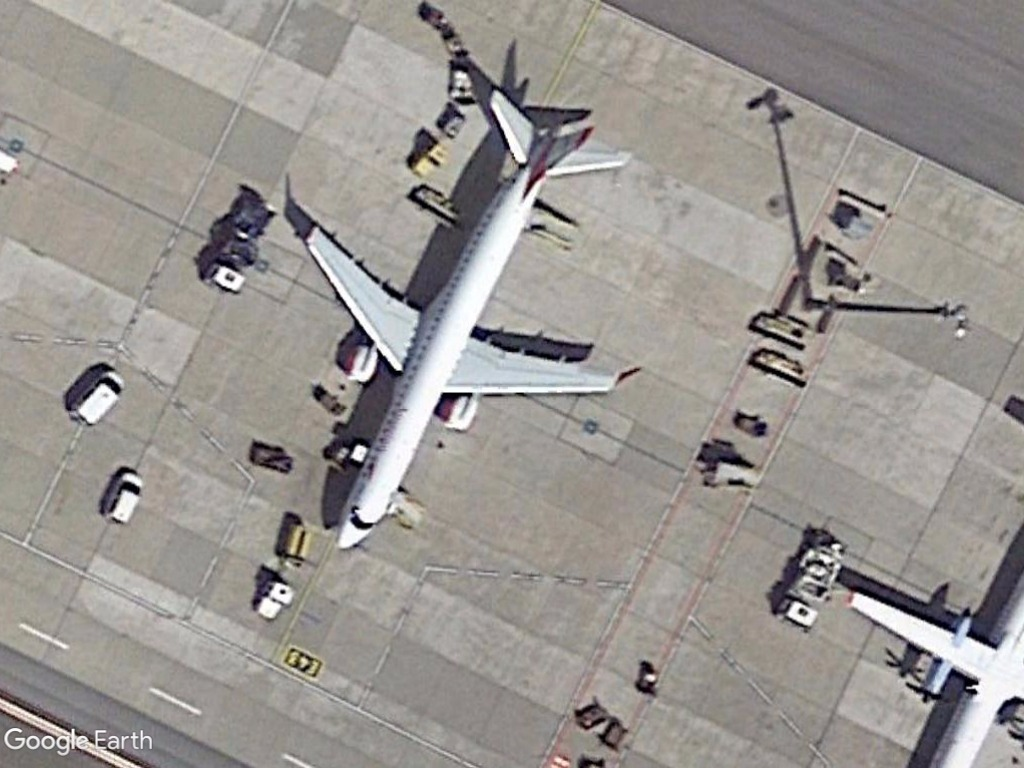airliner: (294, 80, 641, 557)
van: (69, 366, 127, 432), (102, 468, 146, 528)
